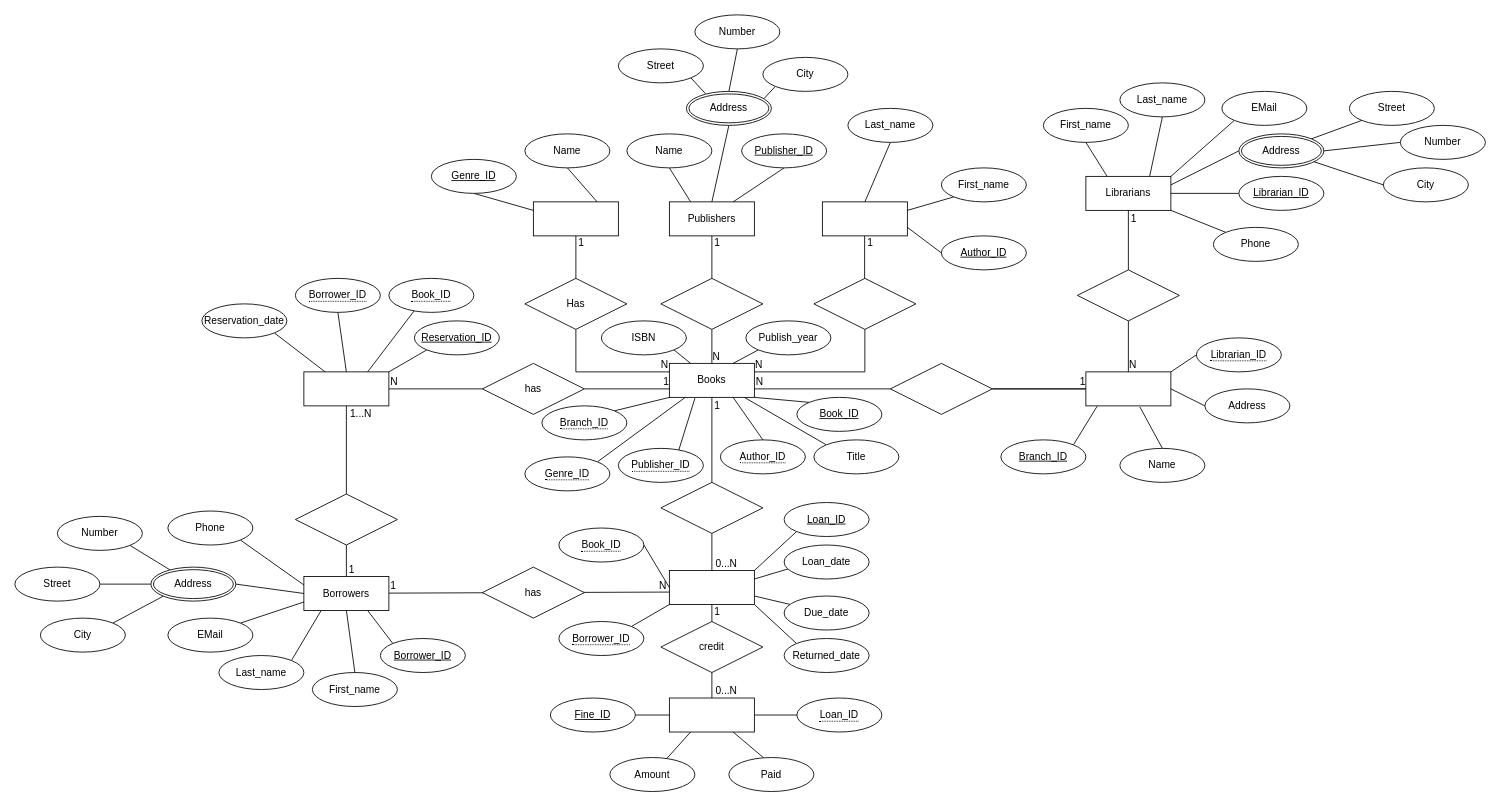
This 1500x807 diagram has some shape labels left out. The shapes that lost their labels are listed below. From the top down, each one's centre as x and y in pixels, then its label:
At [575,218]: "Genres".
At [864,218]: "Authors".
At [711,303]: "publish".
At [864,303]: "writes".
At [1128,295]: "work".
At [346,388]: "Reservations".
At [941,388]: "store".
At [1128,388]: "Library_Branches".
At [346,519]: "place".
At [711,507]: "loan".
At [711,587]: "Loans".
At [711,714]: "Fines".
